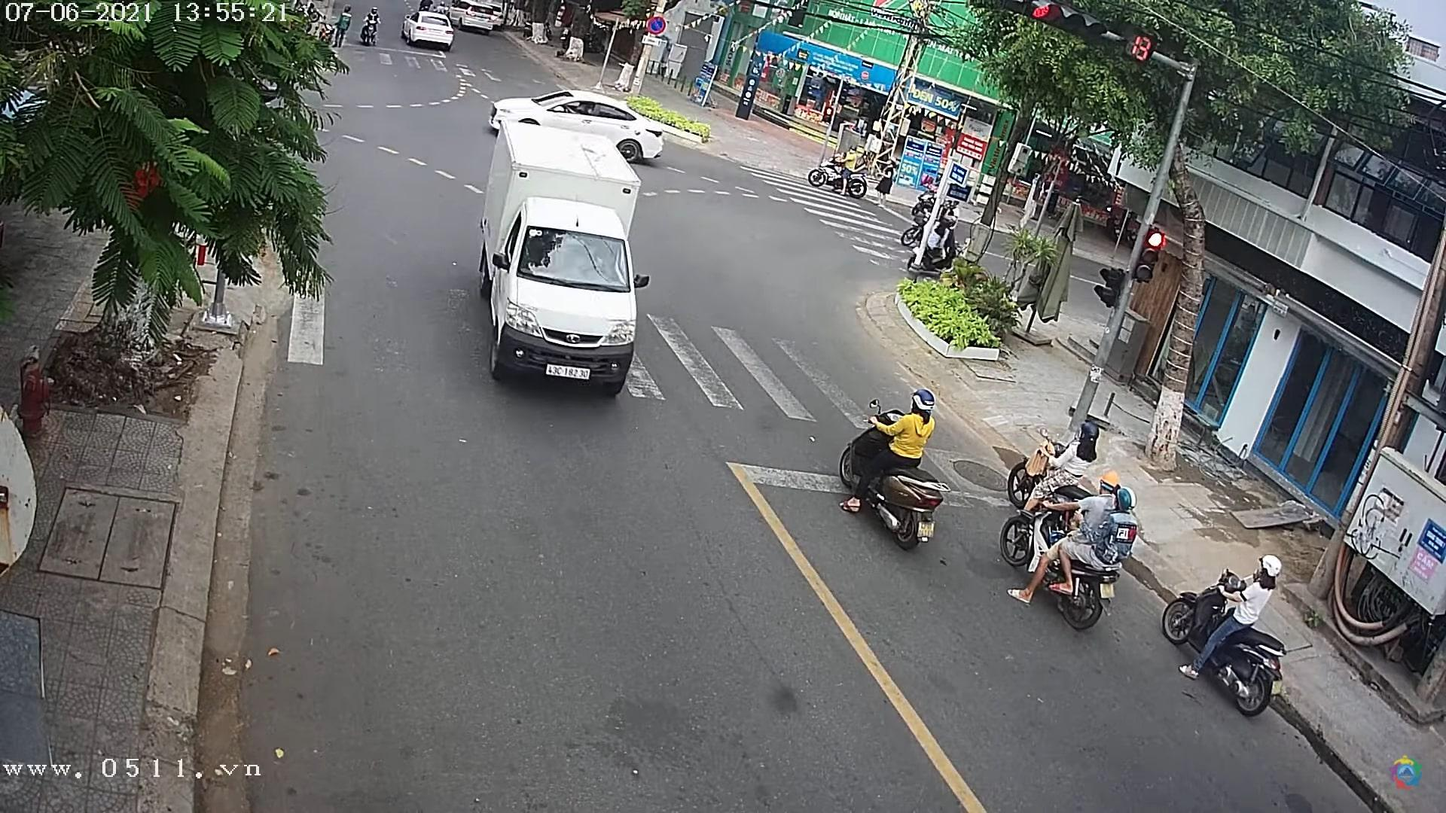car: (404, 8, 461, 51)
truck: (480, 103, 646, 392)
